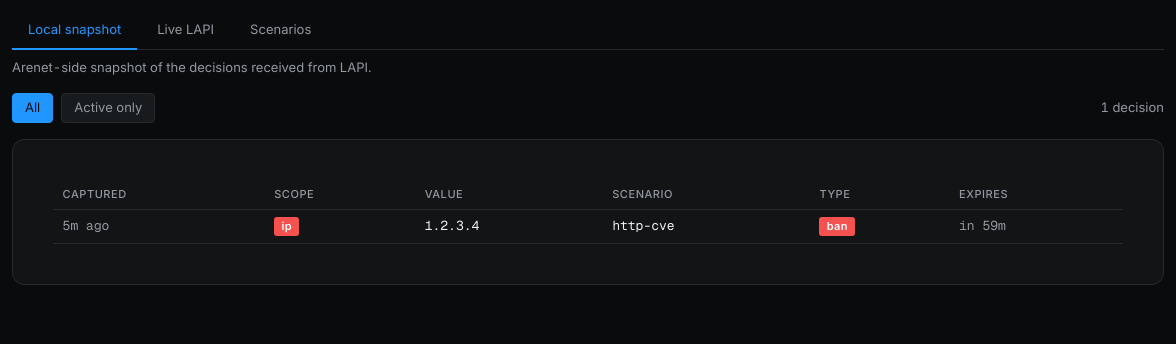
CrowdSec decisions panel — Live LAPI tab › parses scenario "manual:<user>" with no reason as line 1 only
Click the tab with test id "tab-live".
click(186, 31)  # box 141,12 -> 230,50
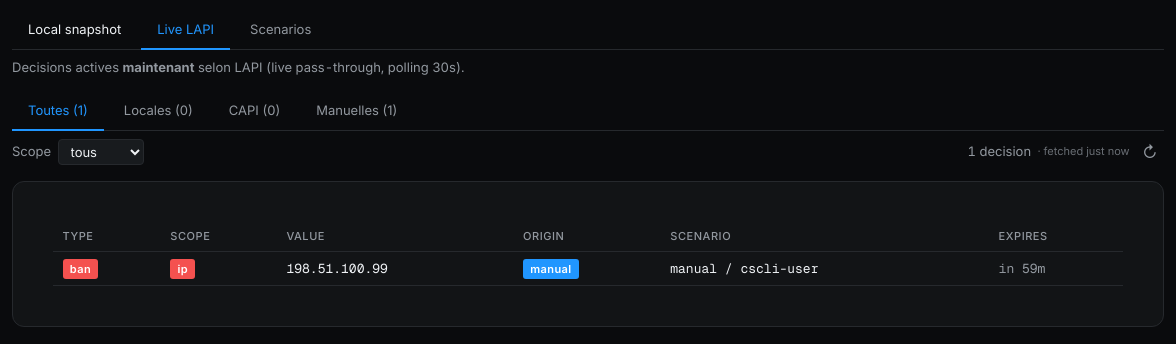
Check: the text "198.51.100.99" is shown, box 277,252 -> 513,286
Check: the text with test id "manual-line1" reads "manual / cscli-user", box 670,260 -> 818,276
